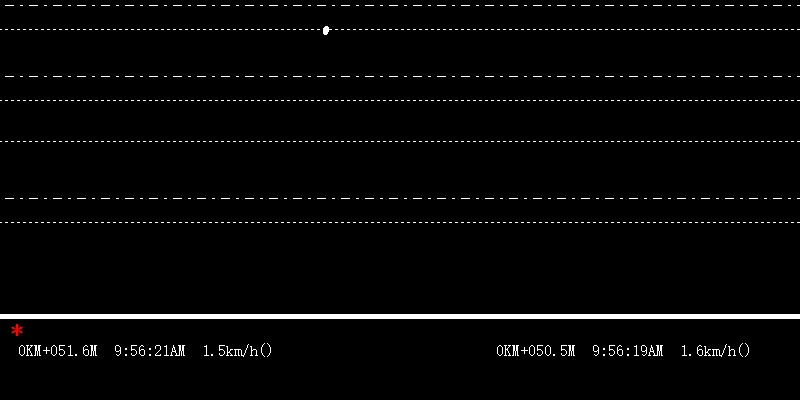face_1: (321, 22, 329, 40)
star: (8, 321, 24, 336)
